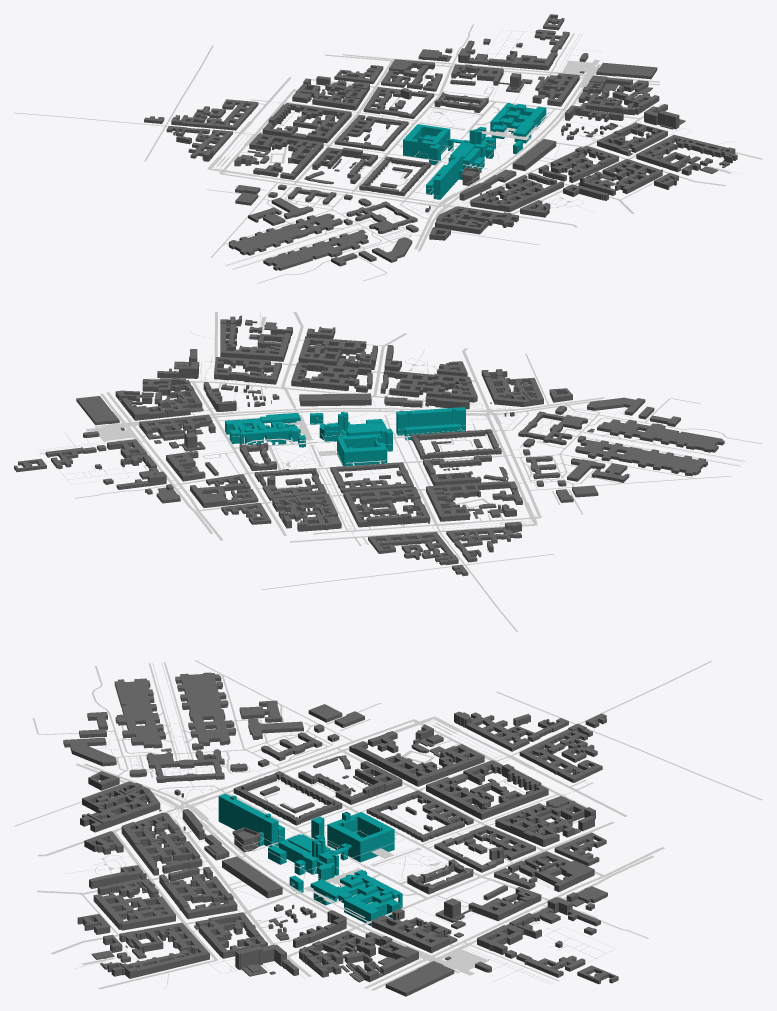
File: LAGEPLAN.glb
The picture shows the model from 3 angles, top to bottom: view 1: azimuth 30°, elevation 25°; view 2: azimuth 150°, elevation 25°; view 3: azimuth 270°, elevation 25°; orthographic projection. The views are drawn at different scales.
Visible parts, largest first — view 1: HOUSES, ROADS, D_BAUWESEN, A_BEUTH, C_GRASHOF, B_GAUSS; view 2: HOUSES, ROADS, D_BAUWESEN, B_GAUSS, A_BEUTH, C_GRASHOF; view 3: HOUSES, ROADS, D_BAUWESEN, A_BEUTH, C_GRASHOF, B_GAUSS.
Part boxes in pixels (x1,y1,x2,y2): HOUSES: (144, 14, 737, 270); ROADS: (14, 24, 762, 283); D_BAUWESEN: (490, 103, 546, 143); A_BEUTH: (403, 124, 450, 159); C_GRASHOF: (445, 129, 495, 169); B_GAUSS: (426, 154, 463, 199); HOUSES: (14, 315, 724, 576); ROADS: (37, 312, 762, 631); D_BAUWESEN: (225, 413, 300, 445); B_GAUSS: (396, 407, 465, 440); A_BEUTH: (337, 434, 387, 466); C_GRASHOF: (319, 412, 386, 442); HOUSES: (63, 672, 618, 996); ROADS: (14, 660, 762, 990); D_BAUWESEN: (310, 872, 402, 925); A_BEUTH: (327, 811, 394, 862); C_GRASHOF: (278, 834, 351, 880); B_GAUSS: (218, 793, 284, 846).
Size of what is drawn, in the model's own units: 1487 by 64.4 by 1399.
